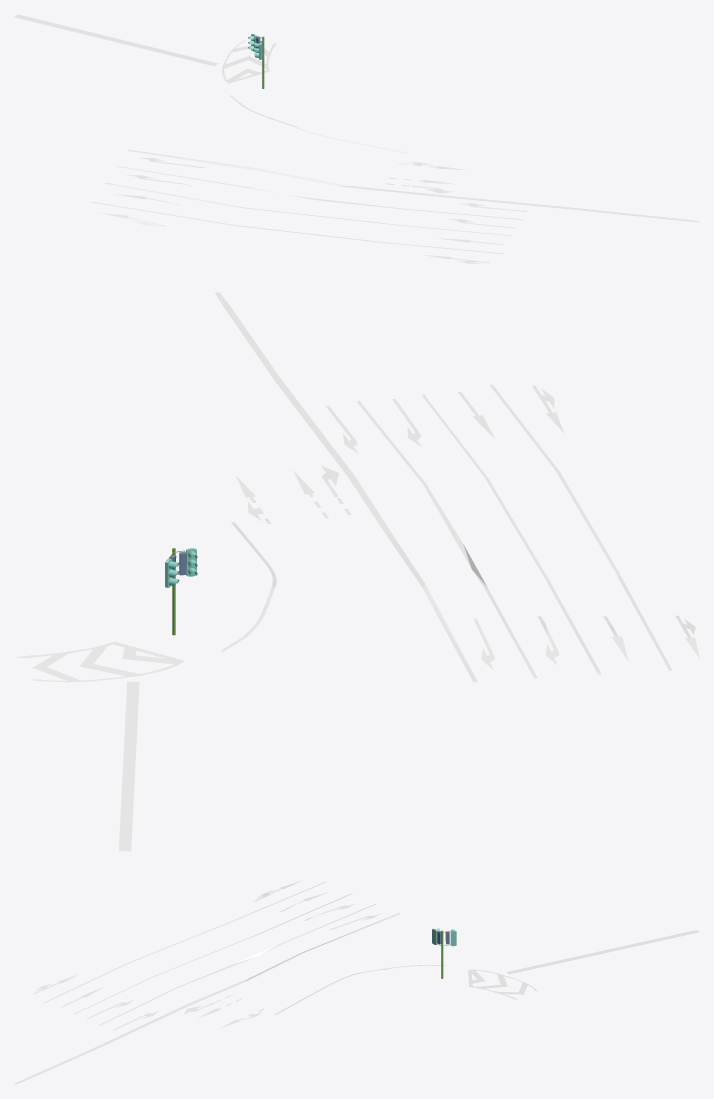
Rendered from data93.glb.
3 renders of one model, top to bottom at view 1: azimuth 30°, elevation 25°; view 2: azimuth 150°, elevation 25°; view 3: azimuth 270°, elevation 25°, orthographic. The views are drawn at different scales.
Size of the model in its own units: 35.93 by 5.09 by 51.67.
4 materials, 1 textured.
